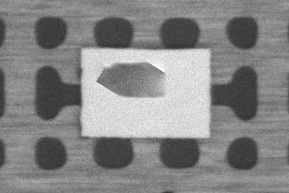DIE_INK: (94, 59, 169, 101)
